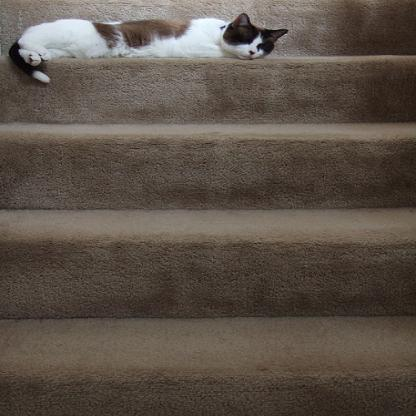stairs: (2, 131, 416, 412)
